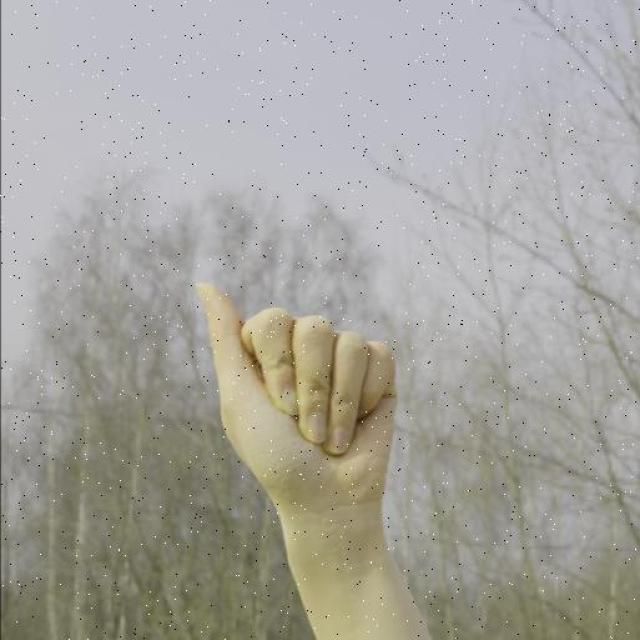A: (195, 270, 405, 512)
